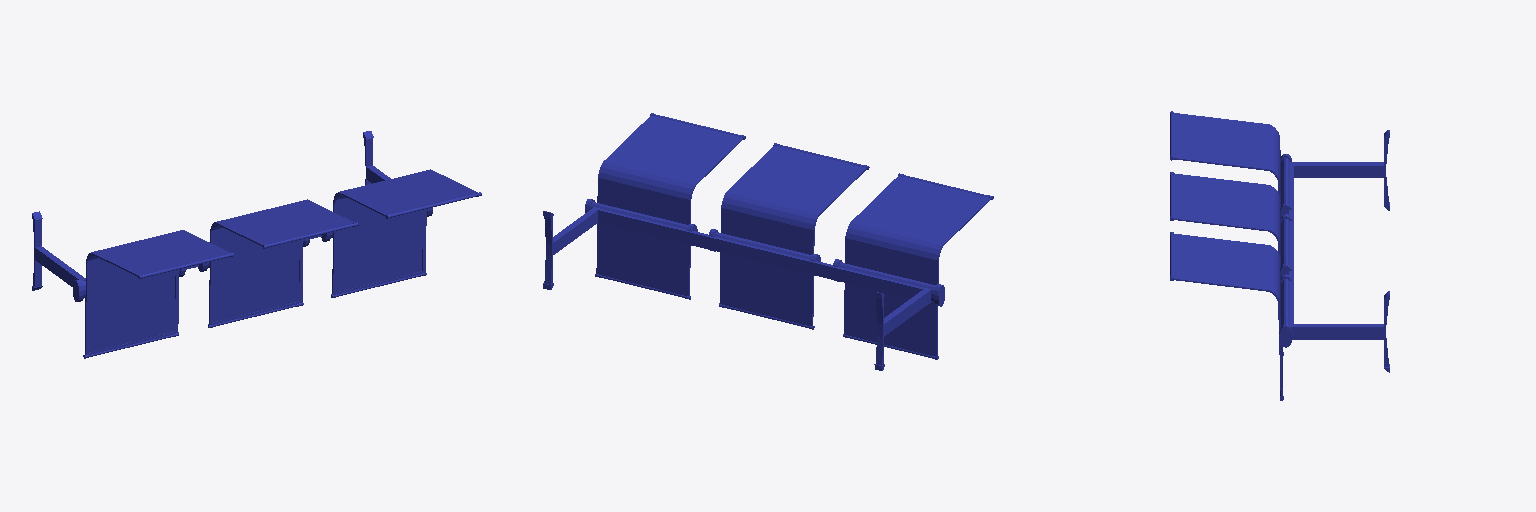
3 renders of one model, left to right at view 1: azimuth 30°, elevation 25°; view 2: azimuth 150°, elevation 25°; view 3: azimuth 270°, elevation 25°, orthographic.
Parts seen in each view (by area): view 1: submesh; view 2: submesh; view 3: submesh.
Boxes of the visible parts, <box> form: submesh: <box>32,131,481,358</box>; submesh: <box>543,113,993,370</box>; submesh: <box>1170,111,1389,400</box>.
Size of the model in its own units: 2.36 by 0.7846 by 1.27.
1 materials, 1 textured.